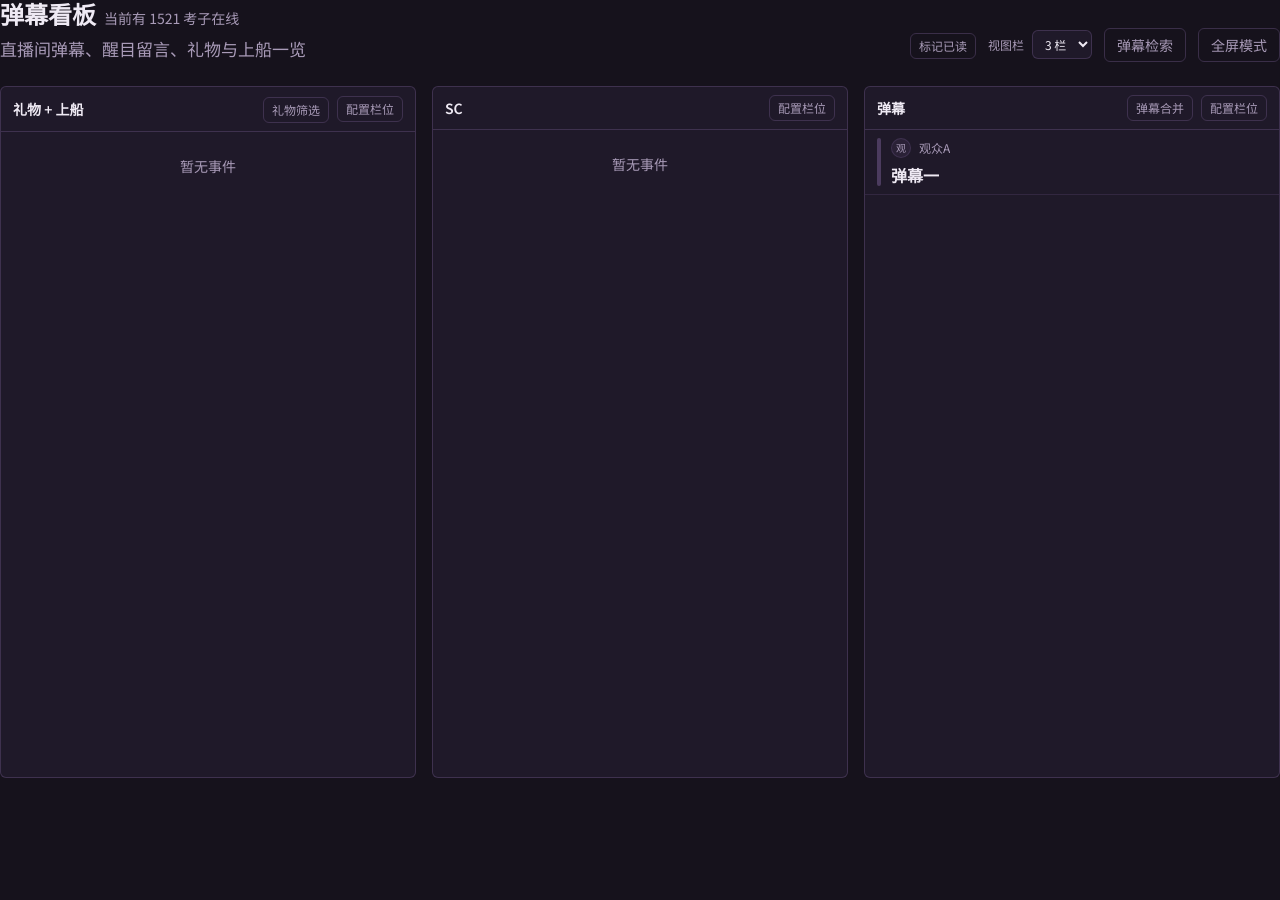
Test case: DanmakuPage 双页头 OnlineCountText › 全屏模式页头展示在线人数
Click the button "全屏模式": (1239, 44) [1198,28,1279,62]
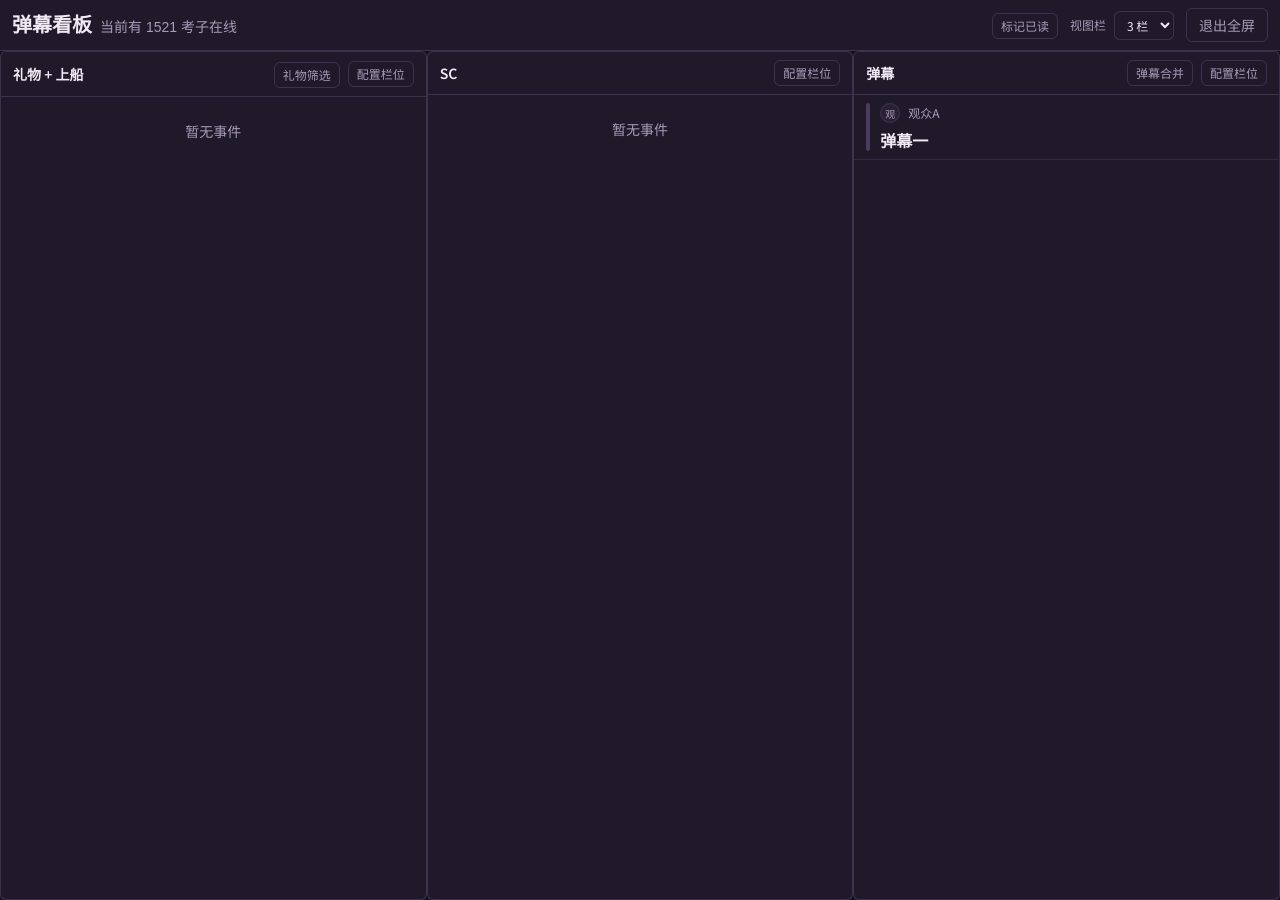
Expected: the text "当前有 1521 考子在线" is shown, [100,17,237,37]
Expected: the button "退出全屏" is shown, [1186,8,1268,42]
